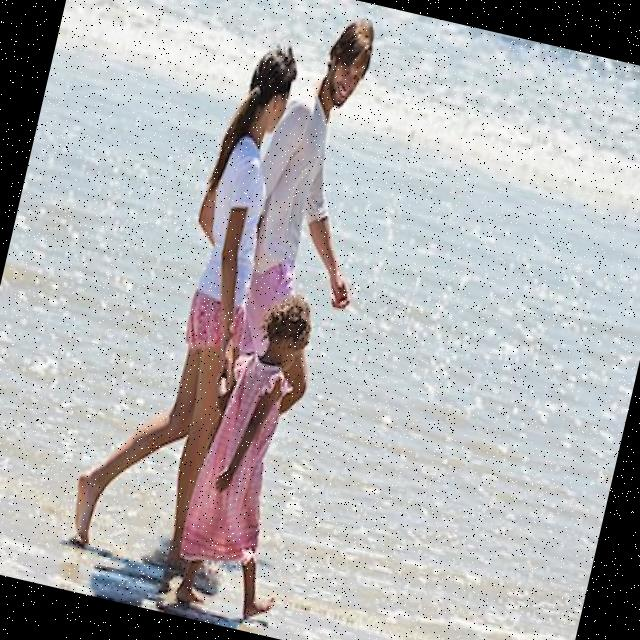Person: (62, 26, 303, 568), (206, 2, 412, 428), (166, 281, 342, 626)
